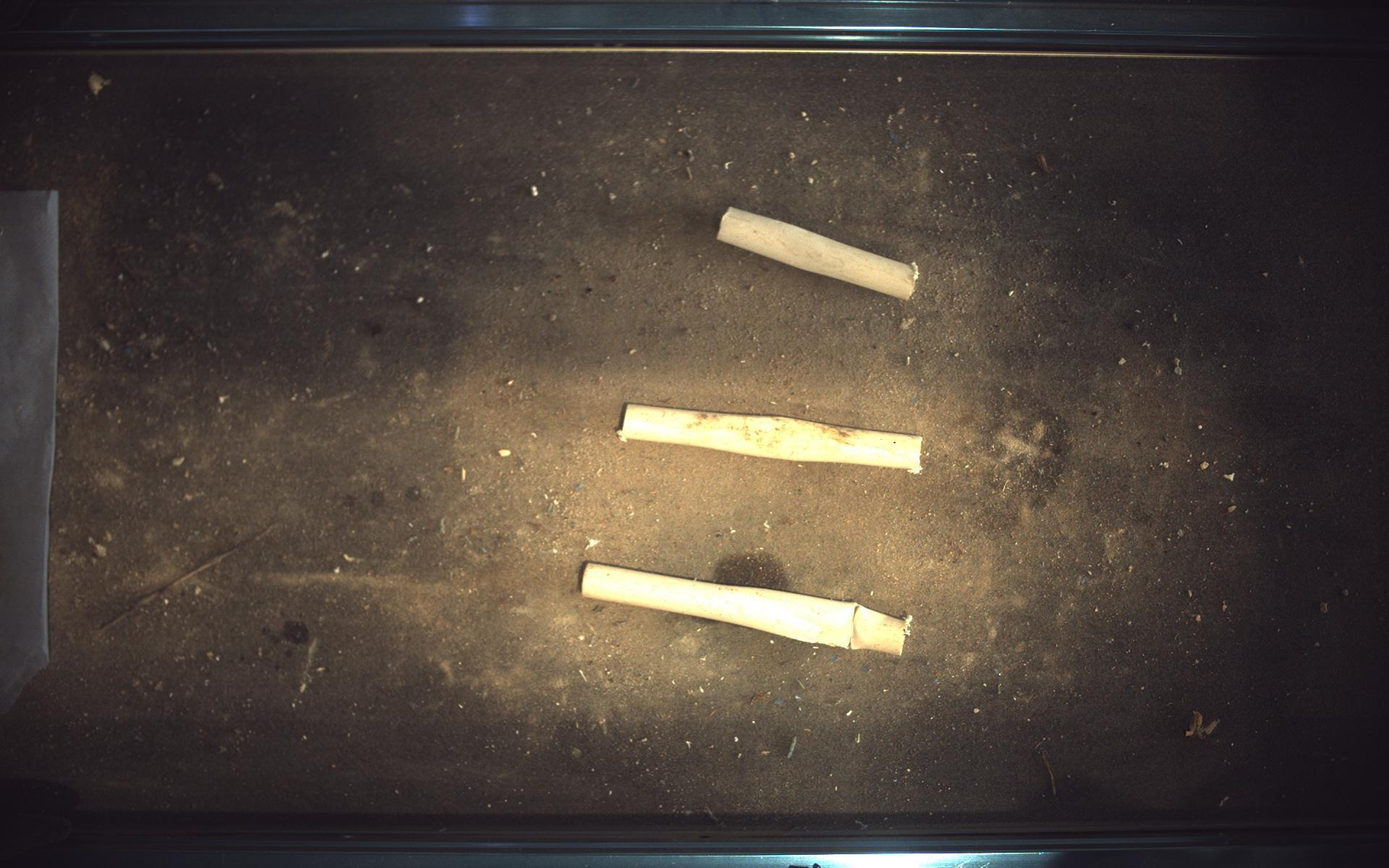pipes: (582, 563, 912, 657), (619, 404, 925, 474), (718, 207, 921, 299)
